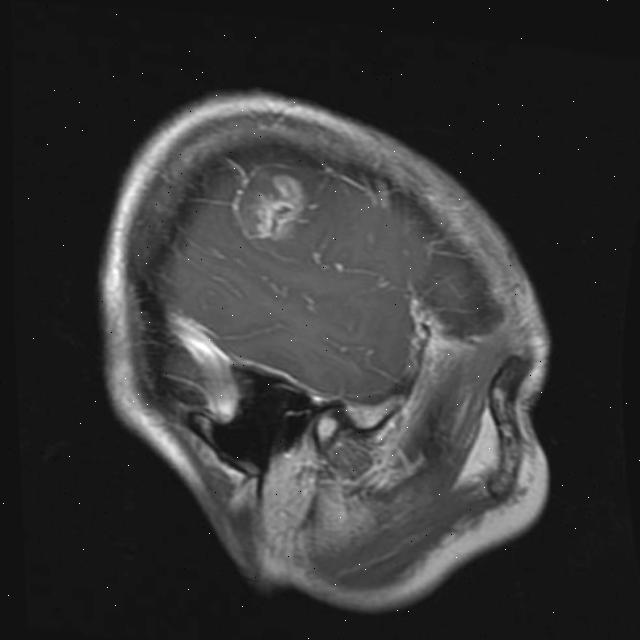Glioma: (250, 168, 309, 243)
